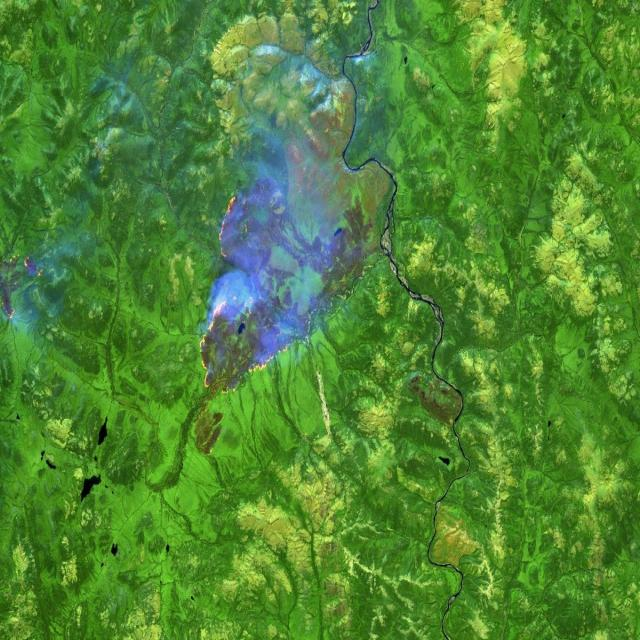fire: (190, 188, 303, 405)
